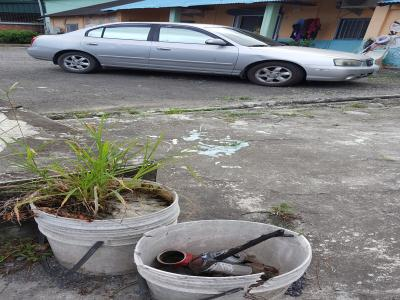bottle: (155, 248, 193, 267)
bucket: (28, 175, 181, 278), (131, 218, 314, 298)
